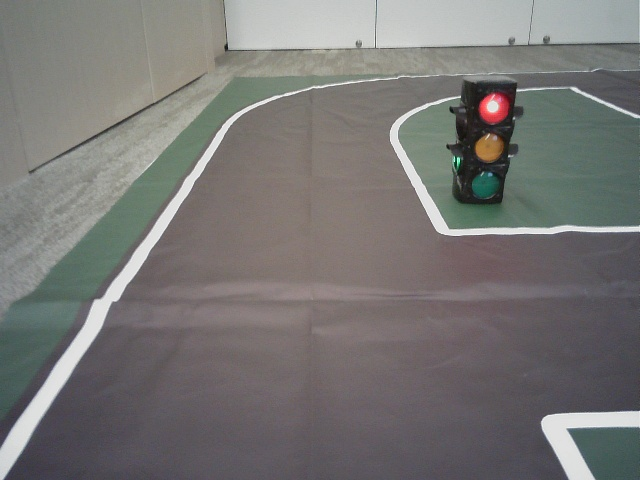red: (470, 87, 508, 200)
